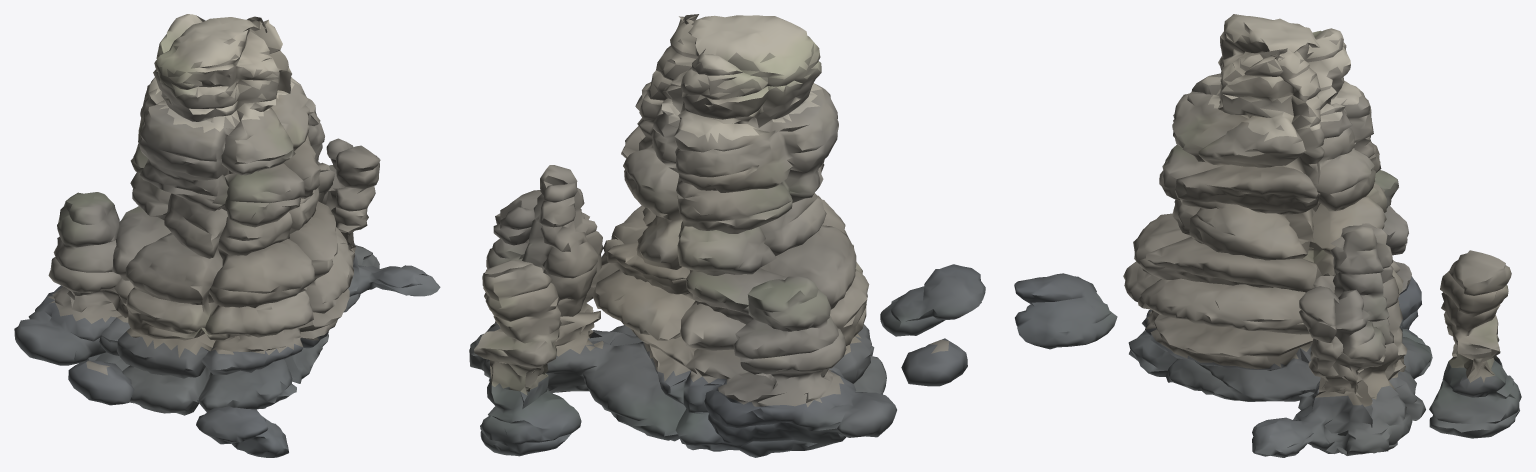
File: searock_c.glb
The picture shows the model from 3 angles, left to right: view 1: azimuth 30°, elevation 25°; view 2: azimuth 150°, elevation 25°; view 3: azimuth 270°, elevation 25°; orthographic projection. The views are drawn at different scales.
Visible parts, largest first — view 1: searock_c; view 2: searock_c; view 3: searock_c.
Boxes of the visible parts, x1,y1,x2,y2 form: searock_c: (14, 14, 440, 457); searock_c: (469, 14, 985, 457); searock_c: (1014, 14, 1521, 457).
Bounding box in the file's own units: 7.91 × 6.75 × 8.58.
